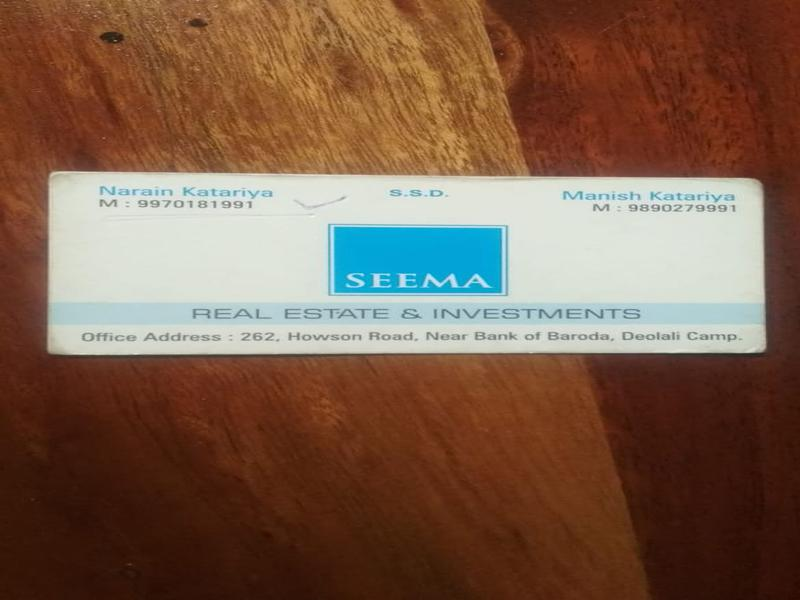card: (43, 167, 770, 358)
